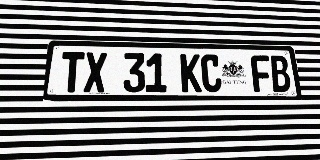1: (145, 53, 167, 92)
3: (123, 53, 145, 92)
B: (269, 55, 292, 92)
C: (200, 54, 222, 92)
F: (250, 55, 273, 92)
K: (180, 54, 202, 92)
T: (60, 52, 85, 92)
X: (83, 52, 107, 92)
